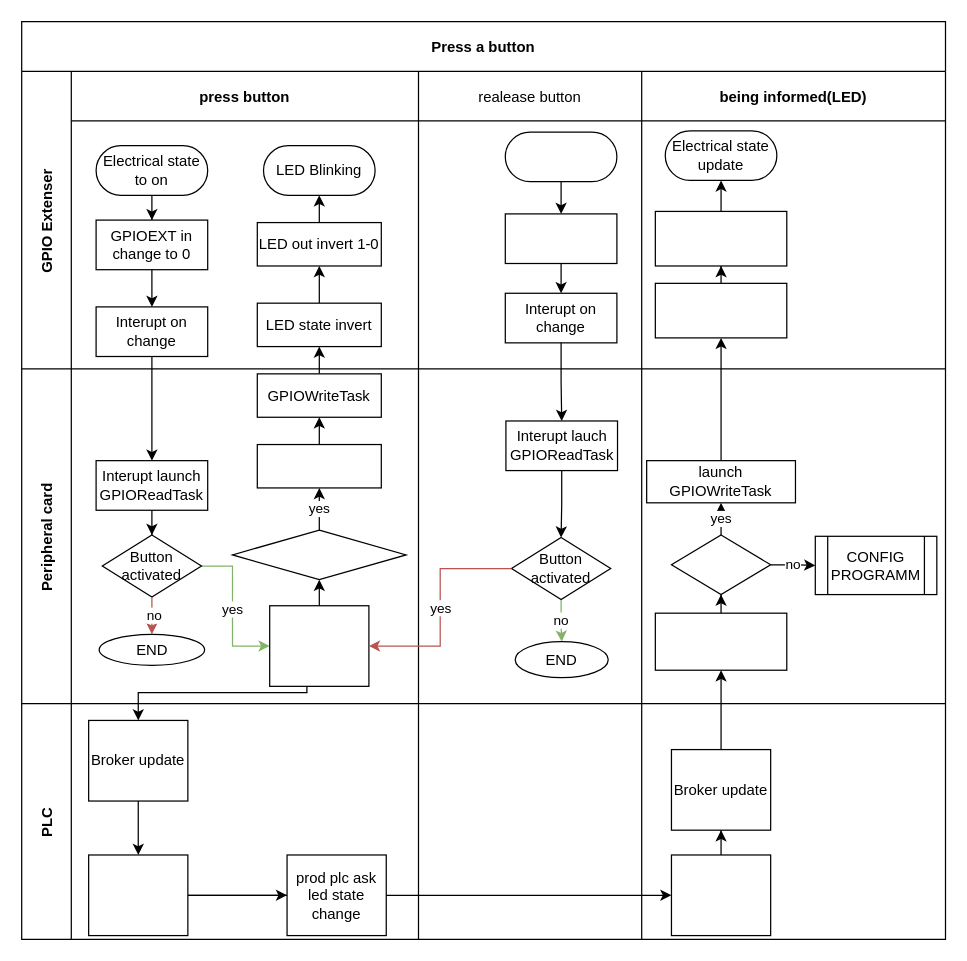
This 967x961 diagram has some shape labels left out. The centre of each missing label's shape, as x and y in pixels:
"BlinkingLEDTask" goes at point 318,465.
"broker notif" goes at point 720,564.
"button<=>led sync mode" goes at point 318,554.
"Electrical state to off" goes at point 560,156.
"GPIOEX out change to state" goes at point 720,238.
"GPIOEX write state on register out" goes at point 720,310.
"GPIOEXT in change to 1" goes at point 560,238.
"publisch change on topic" goes at point 318,645.
"ricieve notification from broker" goes at point 720,641.
"sync publisch change ack on topic" goes at point 720,895.
"sync with local variabels" goes at point 137,895.
